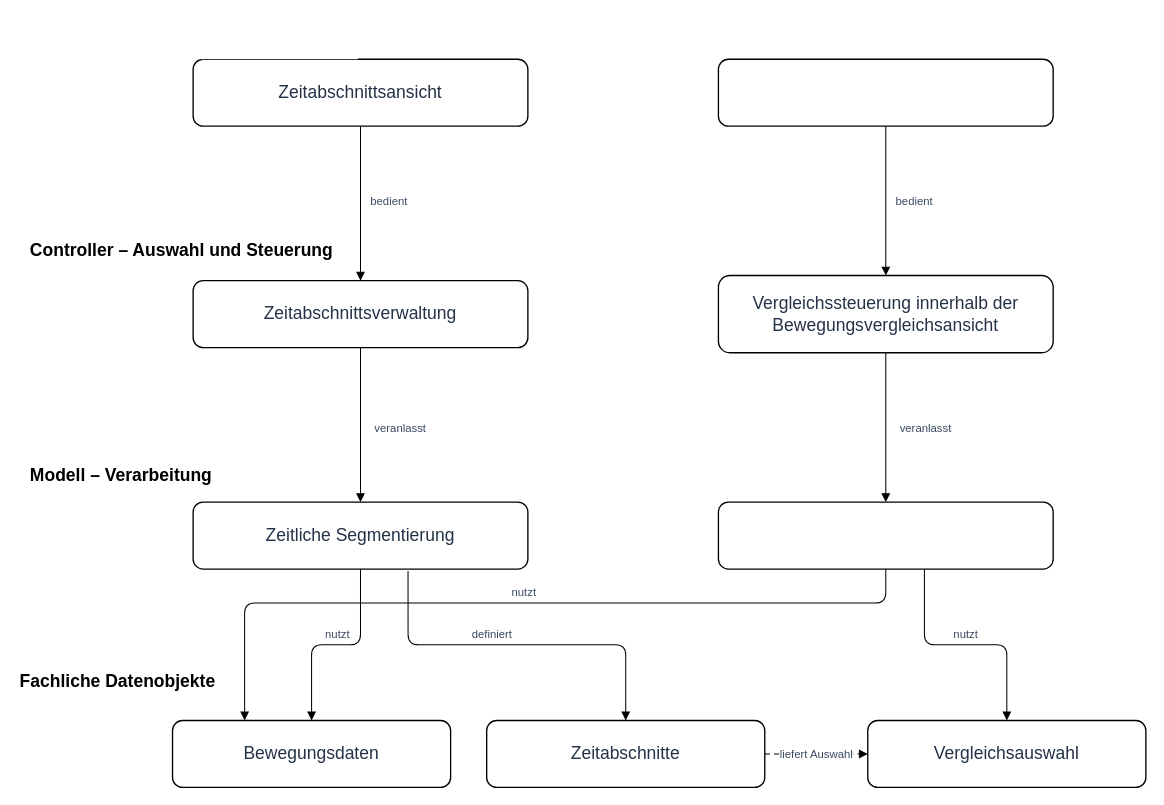
This 1164x805 diagram has some shape labels left out. Here are the shapes that lost their labels. From the top down, the box of each, then its label:
(38, 18, 357, 59): View – Darstellung und Interaktion
(717, 58, 1053, 126): Bewegungsvergleichsansicht
(717, 501, 1053, 569): Aufbereitung des Bewegungsvergleichs
